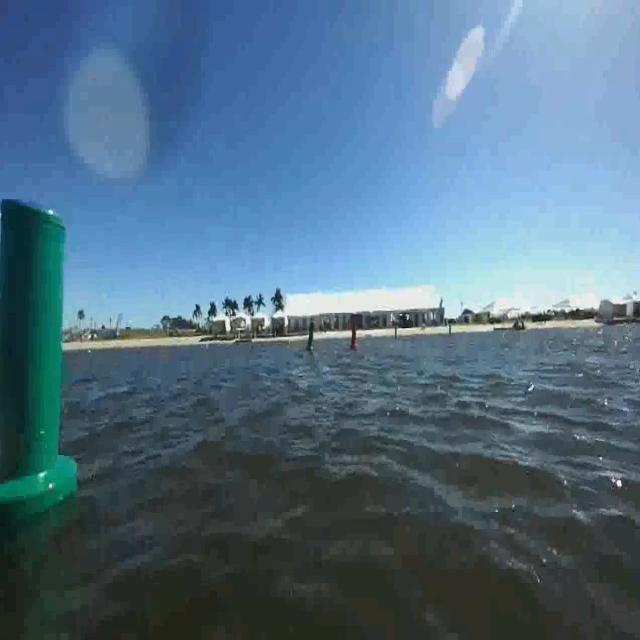green-column-buoy: (0, 205, 77, 513), (303, 321, 315, 355)
red-column-buoy: (349, 322, 360, 352)
